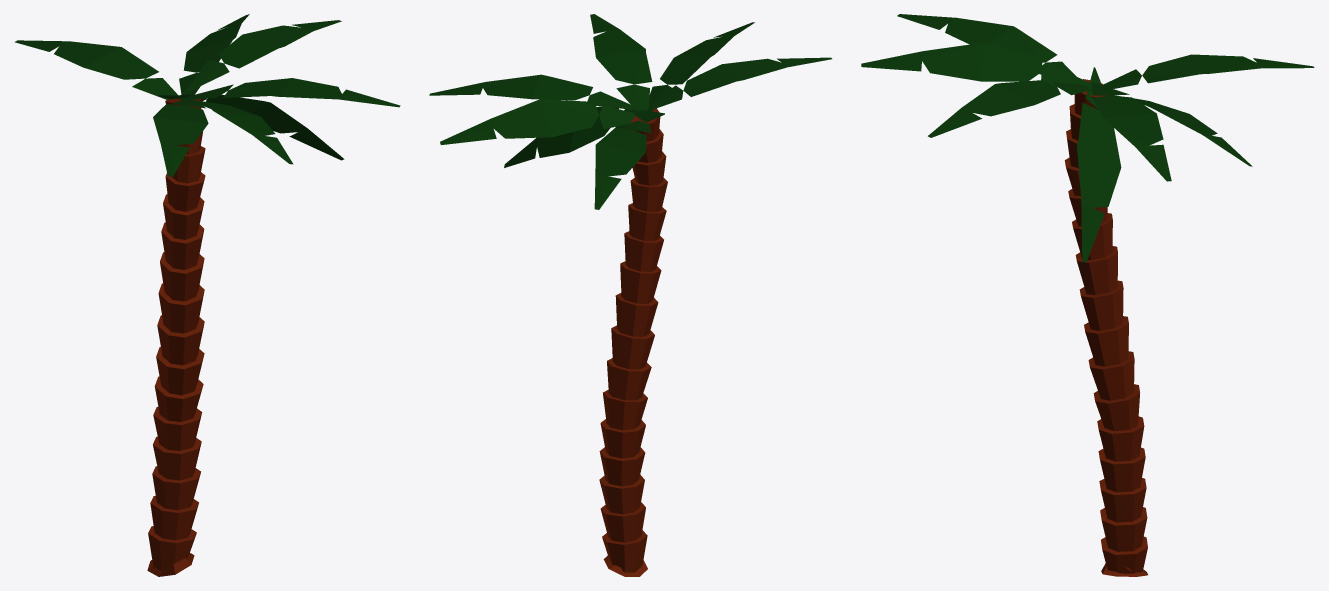
Rendered from palma.fbx.
3 renders of one model, left to right at view 1: azimuth 30°, elevation 25°; view 2: azimuth 150°, elevation 25°; view 3: azimuth 270°, elevation 25°, orthographic. The views are drawn at different scales.
Visible parts, largest first — view 1: Cubo, Piano, Piano.001, Piano.005, Piano.002, Piano.008, Piano.004, Piano.009; view 2: Cubo, Piano.004, Piano.005, Piano.001, Piano, Piano.002, Piano.009, Piano.008; view 3: Cubo, Piano.009, Piano.008, Piano.001, Piano.005, Piano.002, Piano, Piano.004.
Part boxes in pixels (x1,y1,x2,y2): Cubo: (147, 95, 205, 576); Piano: (14, 40, 177, 99); Piano.001: (183, 20, 341, 93); Piano.005: (179, 78, 400, 107); Piano.002: (153, 100, 208, 176); Piano.008: (158, 94, 344, 160); Piano.004: (179, 14, 249, 95); Piano.009: (179, 98, 293, 164); Cubo: (599, 108, 667, 576); Piano.004: (440, 99, 635, 144); Piano.005: (590, 14, 652, 113); Piano.001: (429, 74, 643, 110); Piano: (594, 120, 651, 209); Piano.002: (655, 57, 831, 108); Piano.009: (641, 22, 754, 120); Piano.008: (504, 106, 664, 167); Cubo: (1064, 79, 1147, 576); Piano.009: (861, 42, 1089, 86); Piano.008: (1077, 67, 1121, 262); Piano.001: (1091, 82, 1171, 181); Piano.005: (928, 80, 1091, 137); Piano.002: (897, 14, 1076, 76); Piano: (1103, 54, 1314, 88); Piano.004: (1112, 95, 1252, 166).
Bounding box in the file's own units: 239 × 385 × 302.
